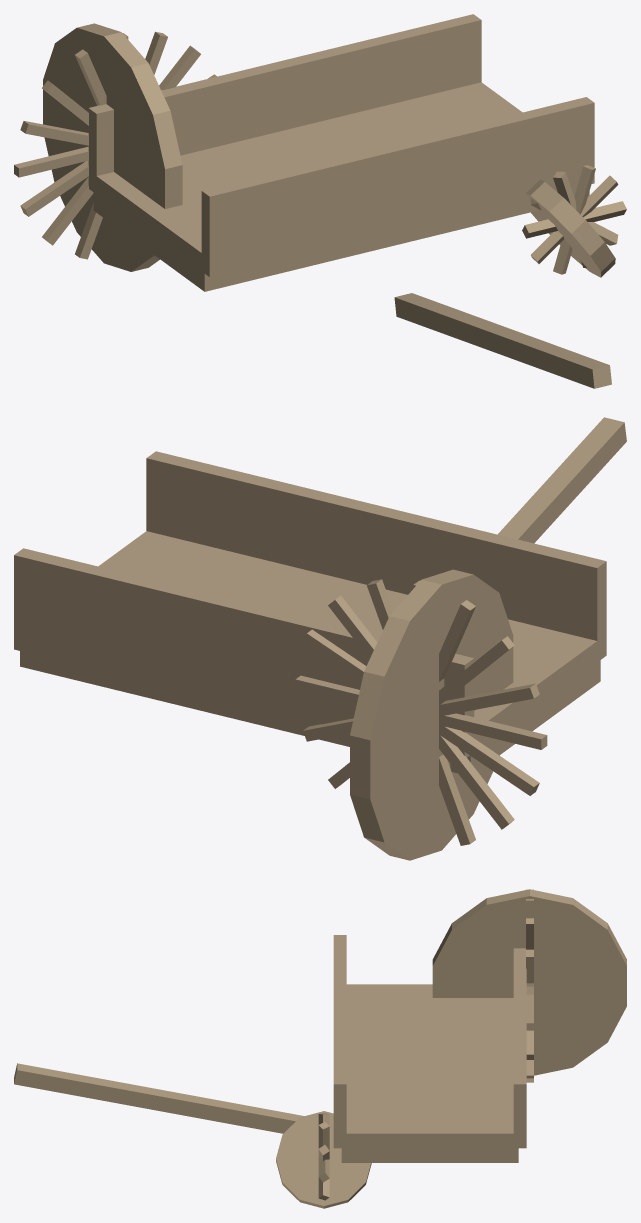
The model's file is trench-line-1917-ruined-cart-72be32dd__24089.glb.
3 renders of one model, top to bottom at view 1: azimuth 30°, elevation 25°; view 2: azimuth 150°, elevation 25°; view 3: azimuth 270°, elevation 25°, orthographic. The views are drawn at different scales.
Visible parts, largest first — view 1: ruined-cart; view 2: ruined-cart; view 3: ruined-cart.
Boxes of the visible parts, x1,y1,x2,y2 form: ruined-cart: [14, 14, 626, 388]; ruined-cart: [14, 417, 626, 860]; ruined-cart: [14, 889, 626, 1208].
Size of the model in its own units: 2.73 by 1.25 by 3.81.
